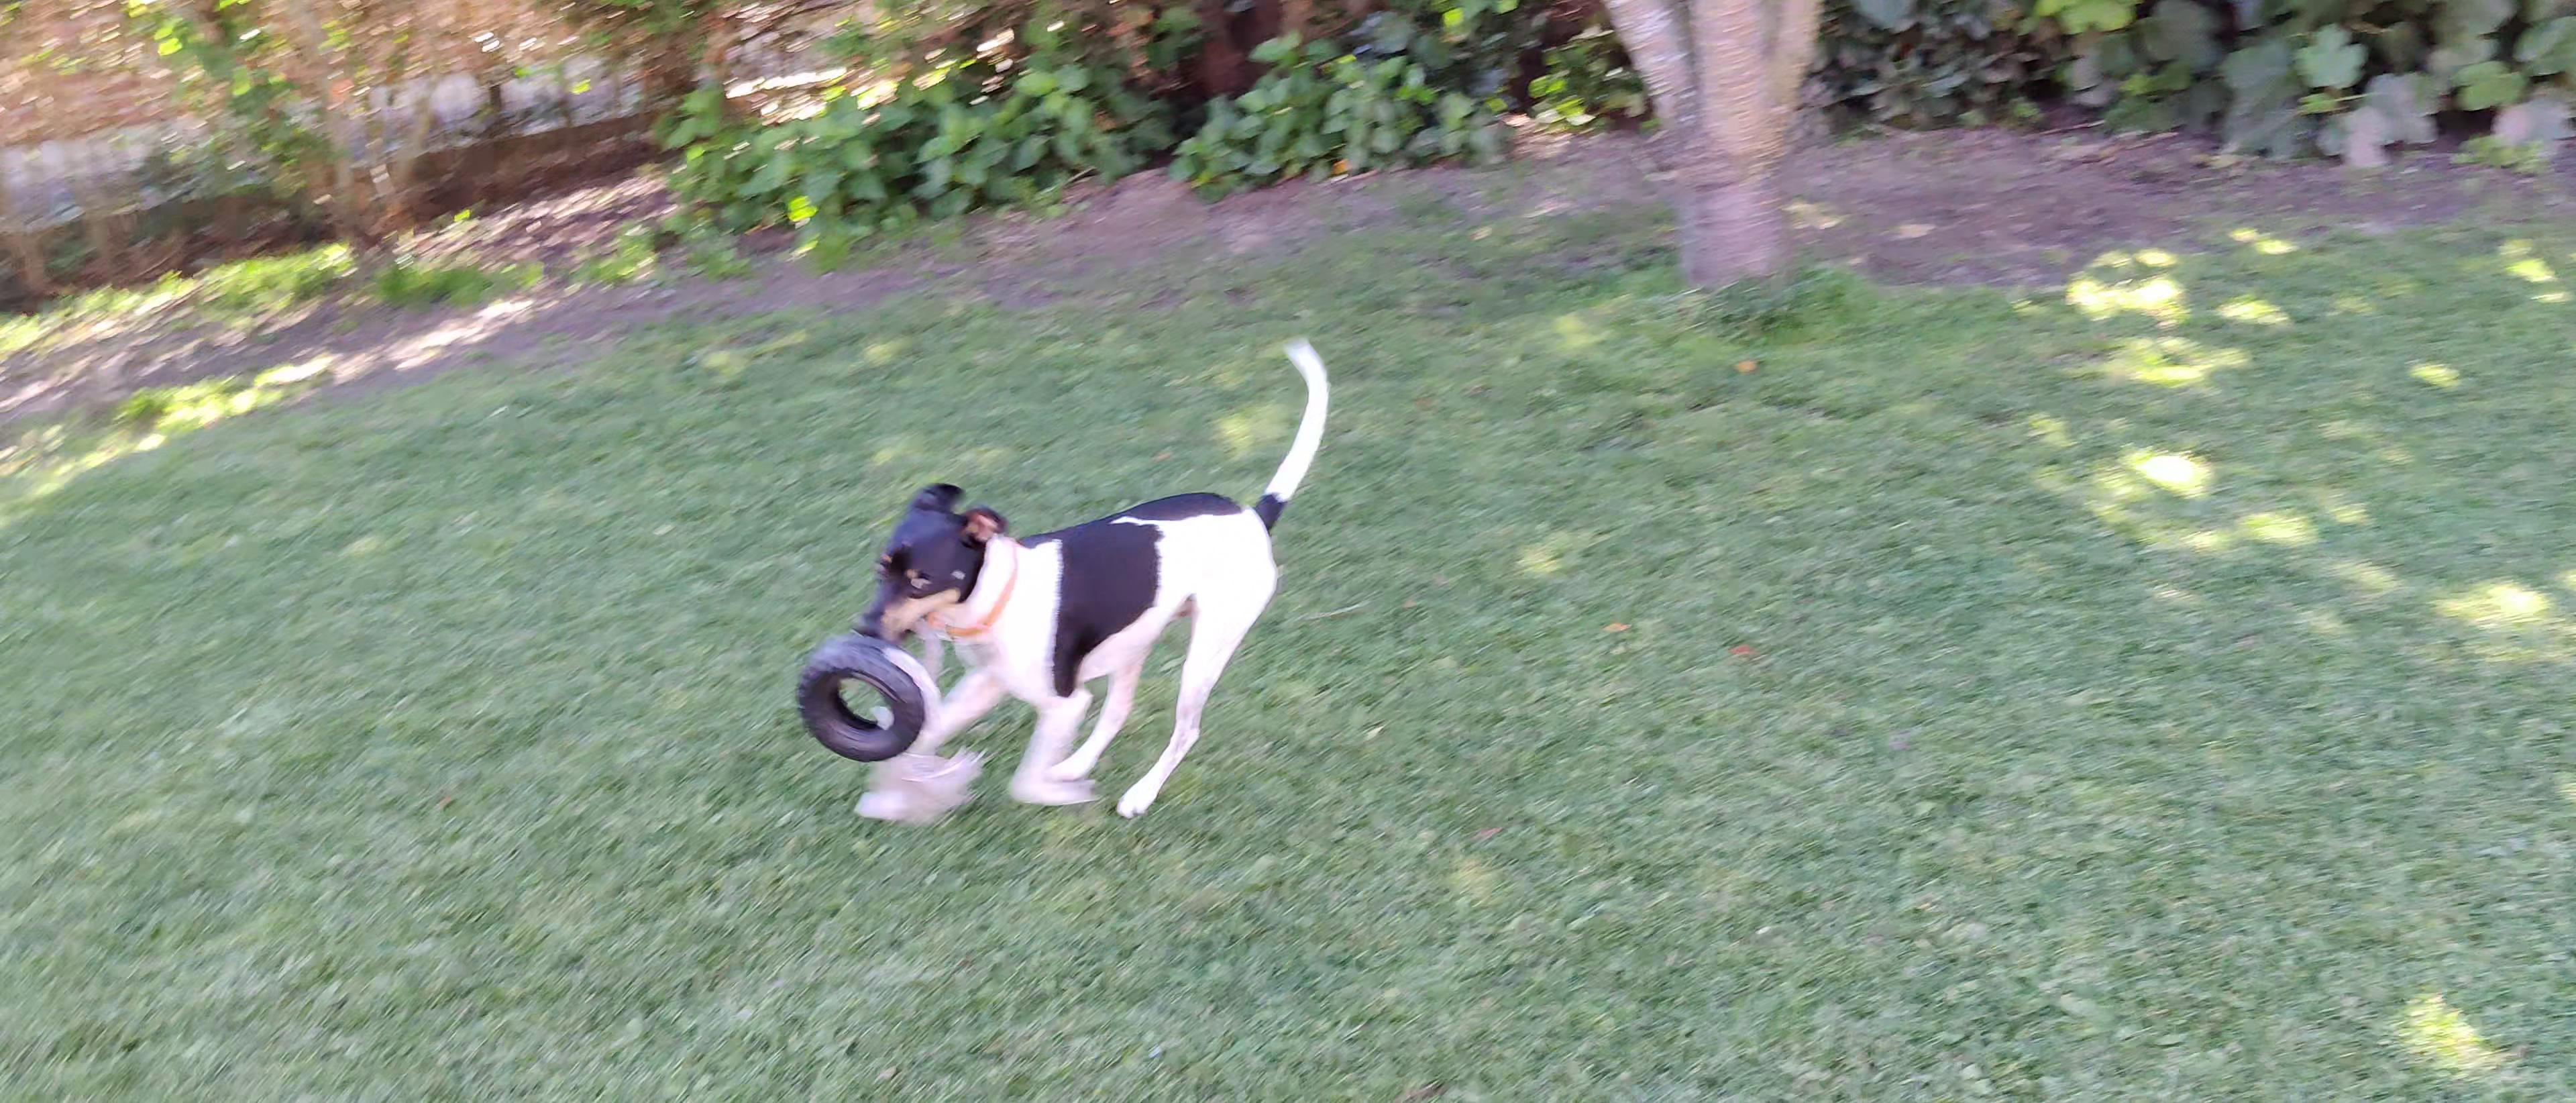Dog: (836, 325, 1347, 837)
